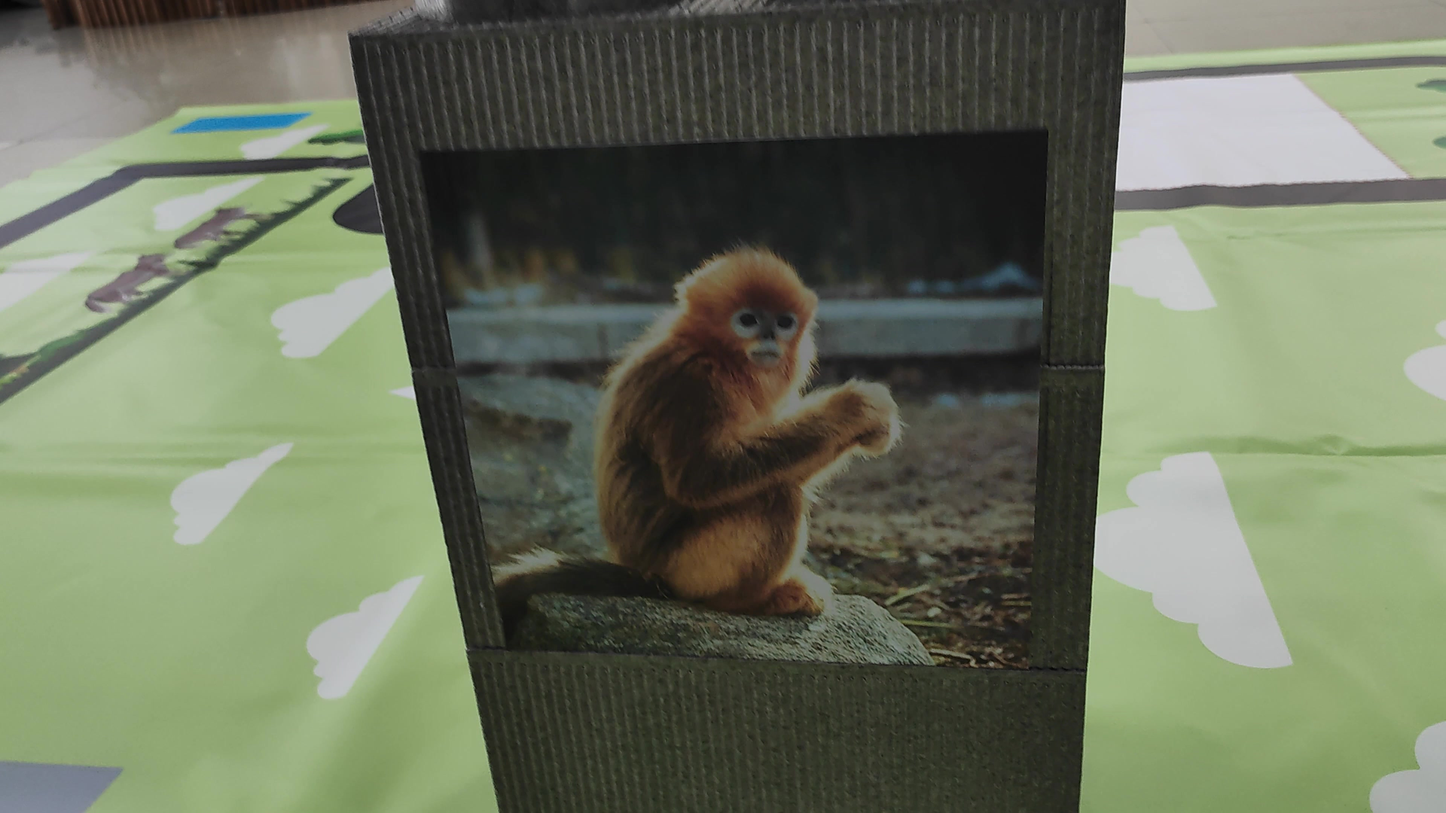monkey: (527, 203, 932, 600)
